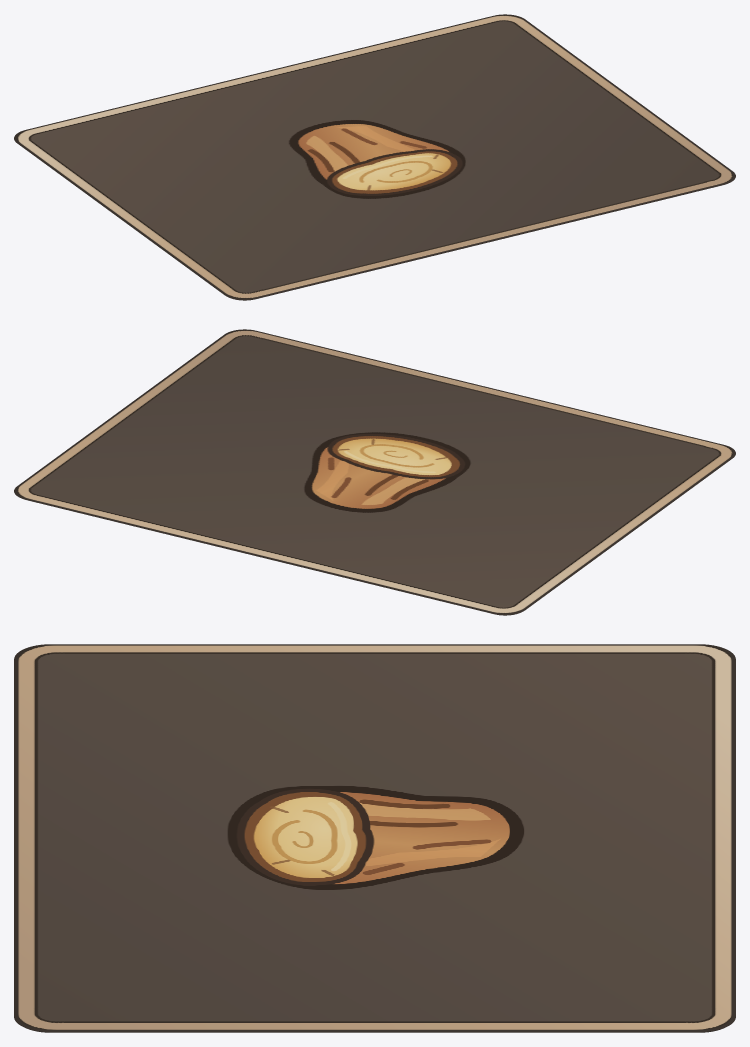
Rendered from wood_storage_empty.glb.
The picture shows the model from 3 angles, top to bottom: view 1: azimuth 30°, elevation 25°; view 2: azimuth 150°, elevation 25°; view 3: azimuth 270°, elevation 25°; orthographic projection. The views are drawn at different scales.
Parts seen in each view (by area): view 1: WoodStoragePlate_Empty; view 2: WoodStoragePlate_Empty; view 3: WoodStoragePlate_Empty.
Part boxes in pixels (box(x1,y1,x2,y2)): WoodStoragePlate_Empty: box(14, 14, 735, 300); WoodStoragePlate_Empty: box(14, 329, 735, 615); WoodStoragePlate_Empty: box(14, 644, 735, 1032).
Size of the model in its own units: 2.89 by 0.008 by 2.27.
2 materials, 1 textured.
